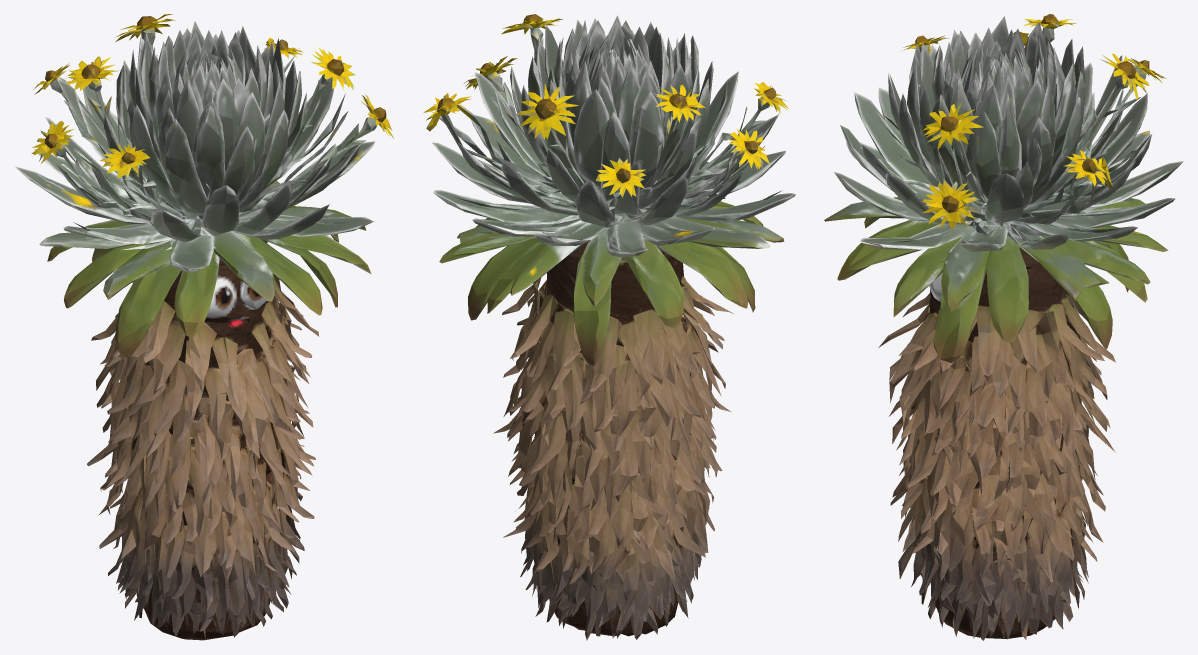
Rendered from Frailejón con cara — 3D.glb.
3 views of the same model, side by side, from view 1: azimuth 30°, elevation 25°; view 2: azimuth 150°, elevation 25°; view 3: azimuth 270°, elevation 25° (orthographic).
Size of the model in its own units: 1.13 by 1.9 by 1.08.
1 material, 1 textured.
